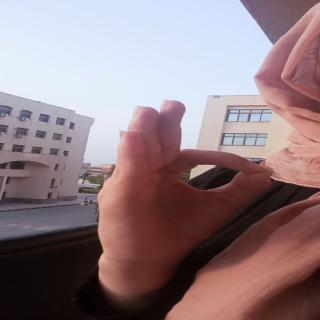Space: (89, 100, 278, 262)
